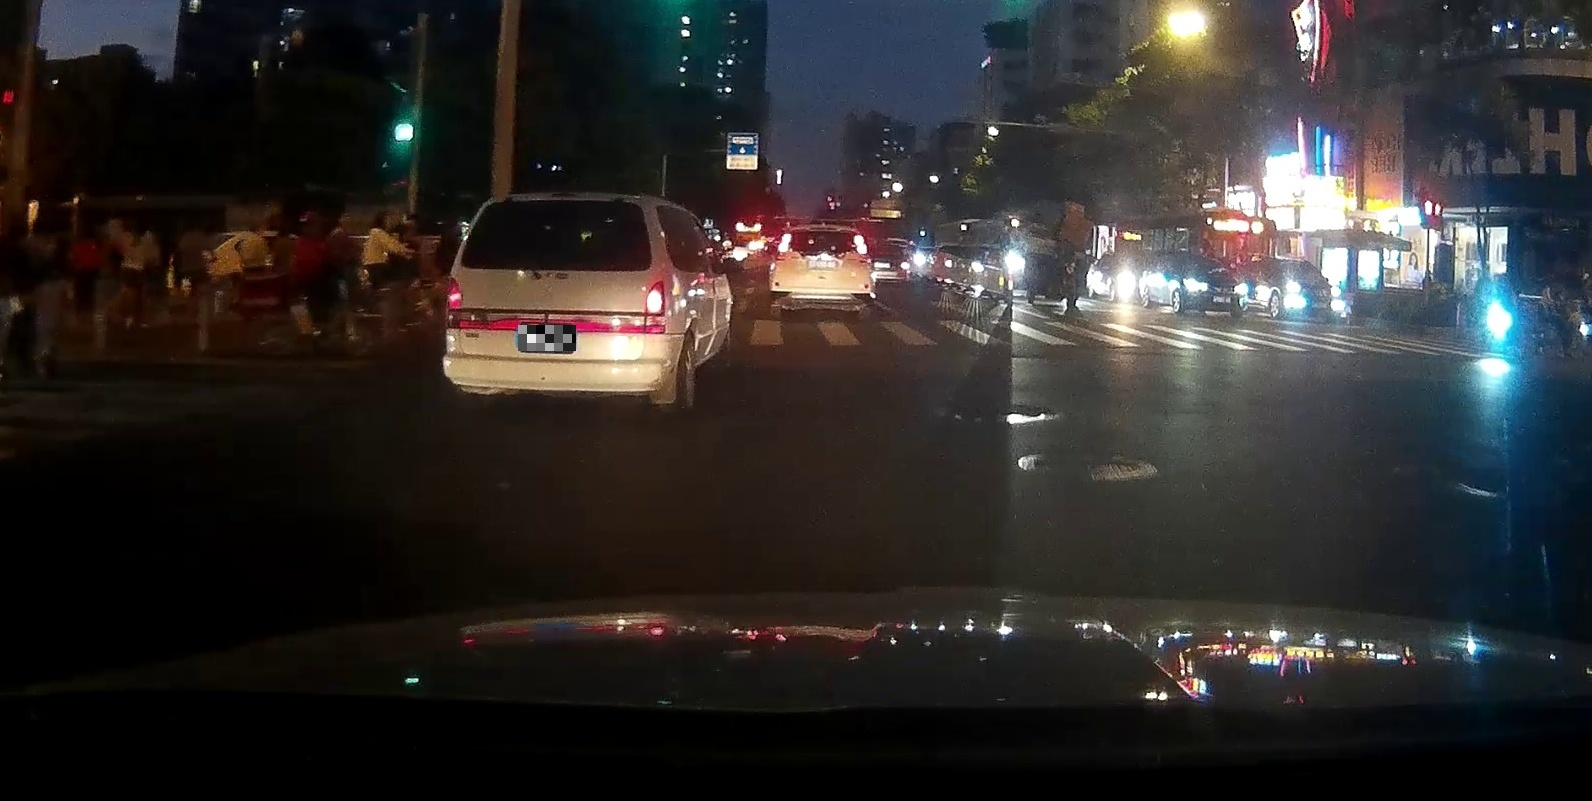L_light: (448, 276, 462, 309), (777, 234, 793, 253)
R_light: (646, 281, 664, 315), (853, 235, 868, 254)
T_light: (541, 200, 576, 209), (816, 231, 835, 236)
night-no: (769, 225, 873, 314)
night-right: (442, 196, 672, 410)
plate_1: (518, 325, 576, 351)
